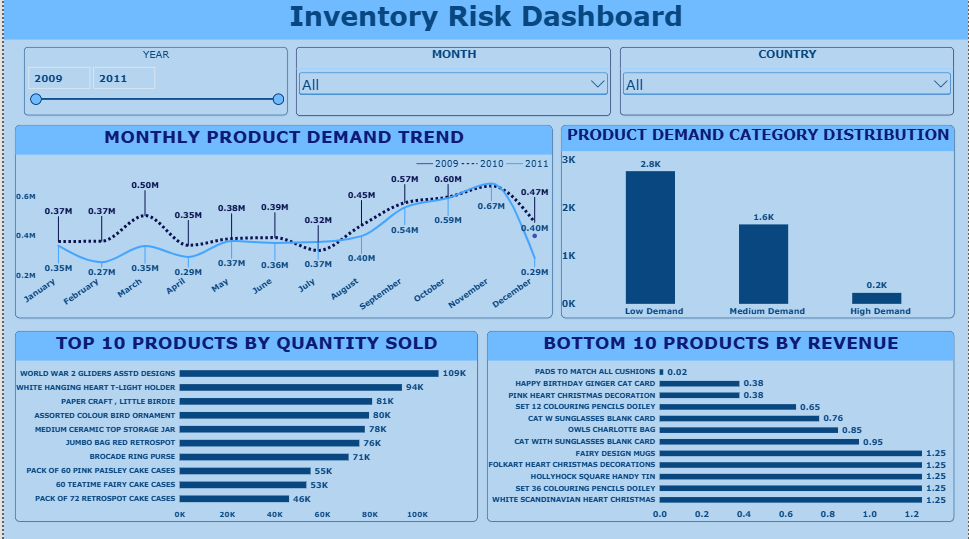

The page's visual inventory and layout, read from the dashboard file:
{"tool":"powerbi","page":{"name":"Inventory Risk Dashboard","canvas":[1920,1080],"ordinal":8},"visuals":[{"type":"textbox","box":[0,0,1920.7,81.2],"z":0},{"type":"barChart","title":"TOP 10 PRODUCTS BY QUANTITY SOLD","fields":{"Category":["CLEANED.Description"],"Y":["CLEANED.Total Quantity"]},"box":[22,660.7,922,379.8],"z":1000},{"type":"lineChart","title":"MONTHLY PRODUCT DEMAND TREND","fields":{"Category":["CLEANED.DATE.Variation.Date Hierarchy.Month"],"Series":["CLEANED.YEAR"],"Y":["CLEANED.Total Quantity"]},"box":[22.4,251,1071,385.4],"z":2000},{"type":"clusteredBarChart","title":"BOTTOM 10 PRODUCTS BY REVENUE","fields":{"Category":["CLEANED.Description"],"Y":["Sum(CLEANED.TOTAL SALES)"]},"box":[961.5,660.7,930.7,379.8],"z":3000},{"type":"slicer","title":"YEAR","fields":{"Values":["CLEANED.YEAR"]},"box":[39.5,96.6,524.6,136.1],"z":4000},{"type":"slicer","title":"MONTH","fields":{"Values":["CLEANED.MONTH"]},"box":[582.6,96.3,627.4,136.7],"z":5000},{"type":"slicer","title":"COUNTRY","fields":{"Values":["CLEANED.Country"]},"box":[1227.1,96.6,665.1,136.1],"z":6000},{"type":"clusteredColumnChart","title":"PRODUCT DEMAND CATEGORY DISTRIBUTION","fields":{"Category":["Product Demand Summary.Demand Category"],"Y":["CountNonNull(Product Demand Summary.StockCode)"]},"box":[1109.1,251,784.2,385.4],"z":6001}]}

Visuals, with their boxes in screenshot pixels (x1, y1, x2, y2), scaled from the page's 1920x1080 canvas onto the 969x539 screenshot:
textbox: {"x1": 0, "y1": 0, "x2": 968, "y2": 41}
"TOP 10 PRODUCTS BY QUANTITY SOLD" barChart: {"x1": 11, "y1": 330, "x2": 476, "y2": 519}
"MONTHLY PRODUCT DEMAND TREND" lineChart: {"x1": 11, "y1": 125, "x2": 552, "y2": 318}
"BOTTOM 10 PRODUCTS BY REVENUE" clusteredBarChart: {"x1": 485, "y1": 330, "x2": 955, "y2": 519}
"YEAR" slicer: {"x1": 20, "y1": 48, "x2": 285, "y2": 116}
"MONTH" slicer: {"x1": 294, "y1": 48, "x2": 611, "y2": 116}
"COUNTRY" slicer: {"x1": 619, "y1": 48, "x2": 955, "y2": 116}
"PRODUCT DEMAND CATEGORY DISTRIBUTION" clusteredColumnChart: {"x1": 560, "y1": 125, "x2": 956, "y2": 318}
